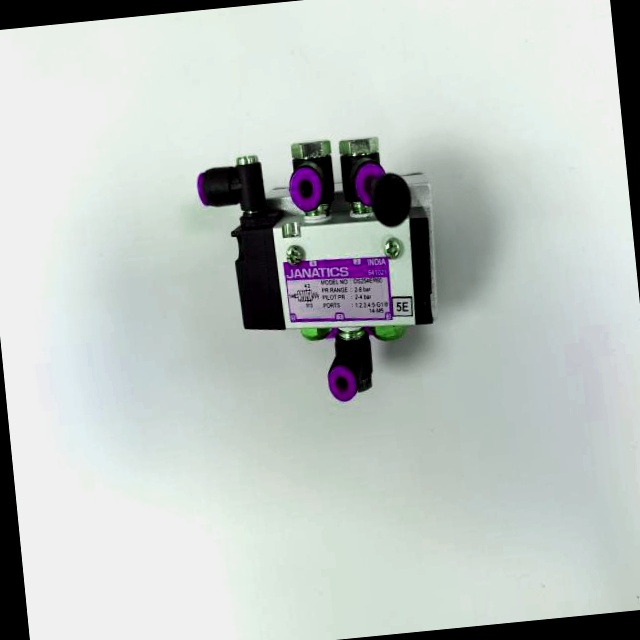5by2 DCV: (182, 107, 462, 426)
